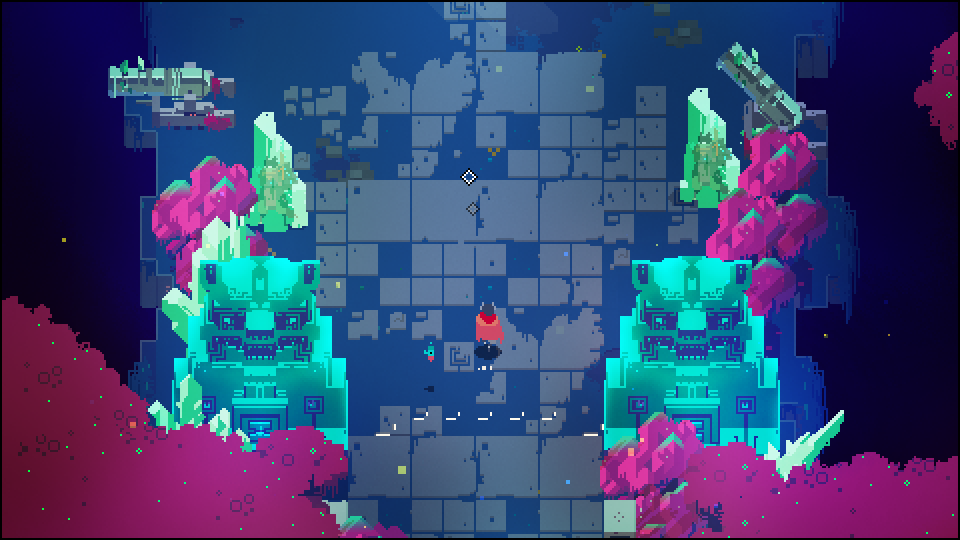player: (474, 295, 504, 354)
